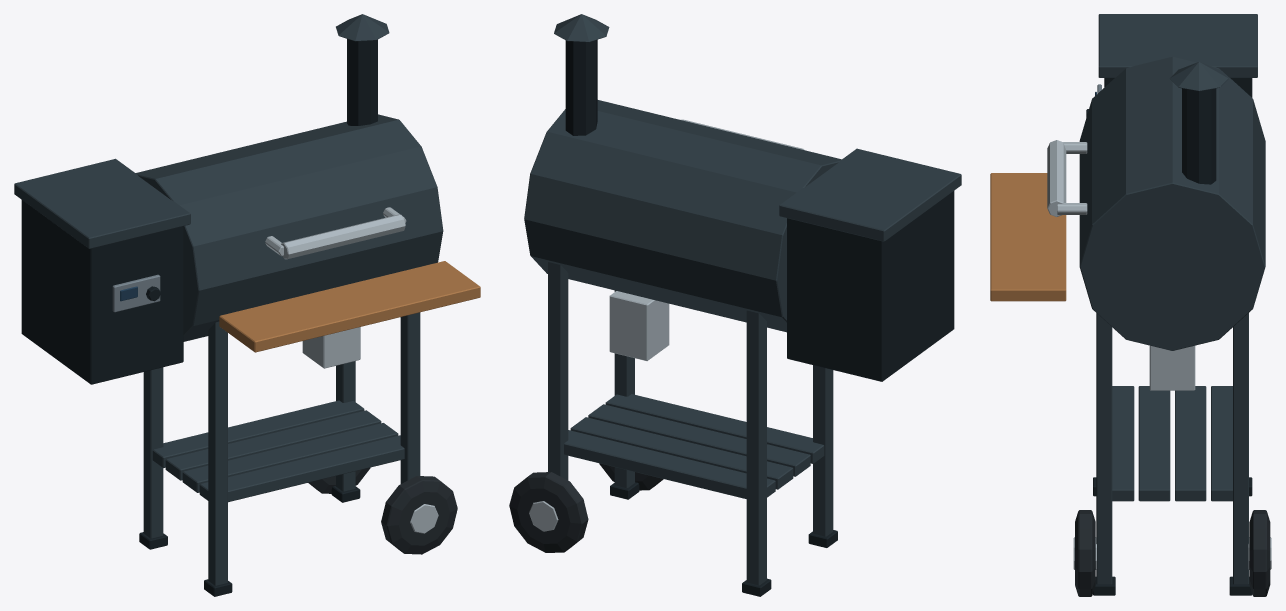
File: b11_pellet_grill_with_hopper.glb
3 views of the same model, side by side, from view 1: azimuth 30°, elevation 25°; view 2: azimuth 150°, elevation 25°; view 3: azimuth 270°, elevation 25° (orthographic). The views are drawn at different scales.
Visible parts, largest first — view 1: b11_pellet_grill_with_hopper; view 2: b11_pellet_grill_with_hopper; view 3: b11_pellet_grill_with_hopper.
Boxes of the visible parts, <box> form: b11_pellet_grill_with_hopper: <box>14,14,480,596</box>; b11_pellet_grill_with_hopper: <box>509,14,961,596</box>; b11_pellet_grill_with_hopper: <box>990,14,1271,596</box>.
Bounding box in the file's own units: 1.16 × 1.54 × 0.7408.
